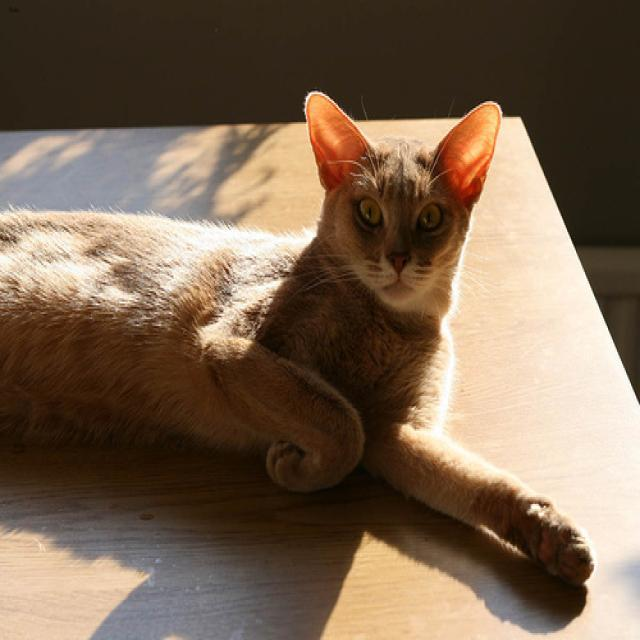Abyssinian: (304, 89, 500, 303)
